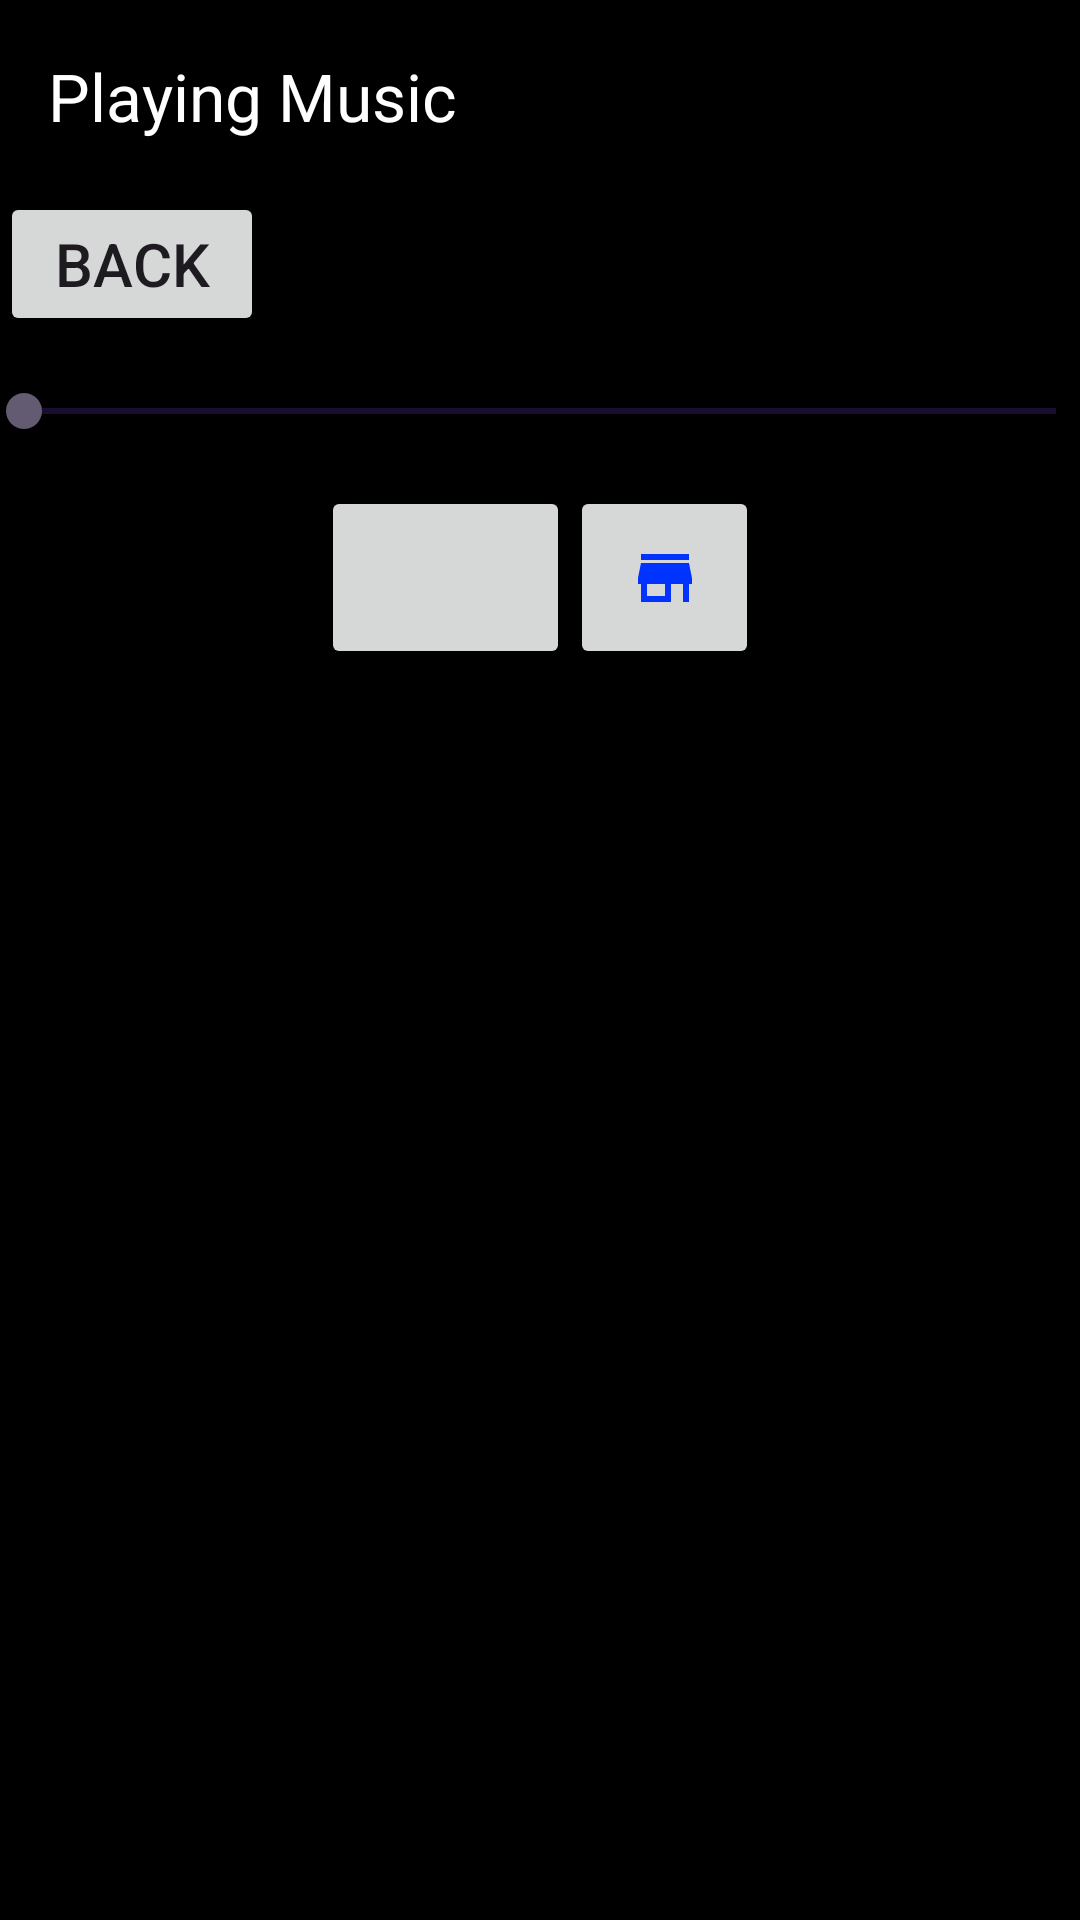

Locate icon controls on the screen. Image size 1080px x 1920px, boxes as (x1=x1, y1=y1, x2=x2, y2=y2).
store: (x1=582, y1=504, x2=747, y2=651)
